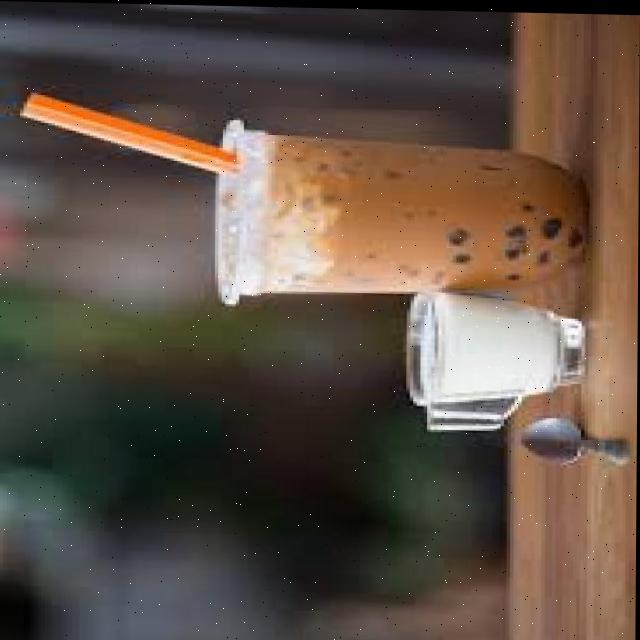cup: (217, 119, 584, 303), (408, 291, 585, 400)
